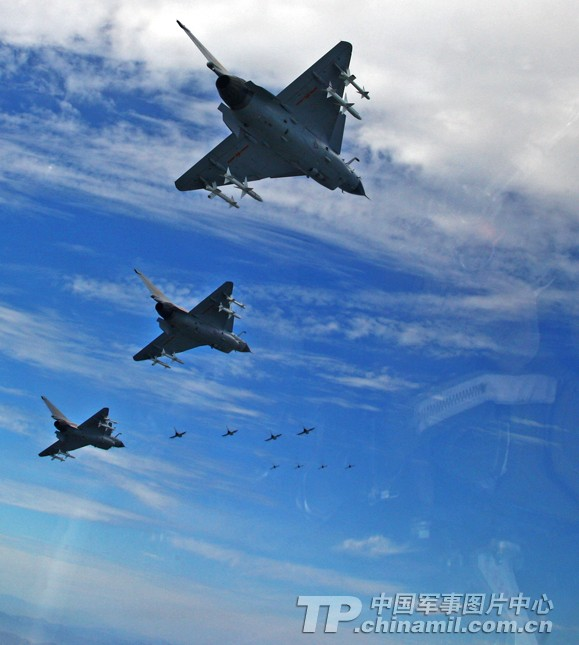airplane: (164, 20, 379, 212), (131, 265, 253, 368), (34, 392, 133, 465), (260, 430, 282, 443), (220, 426, 238, 440), (294, 425, 316, 436), (168, 427, 186, 440)
